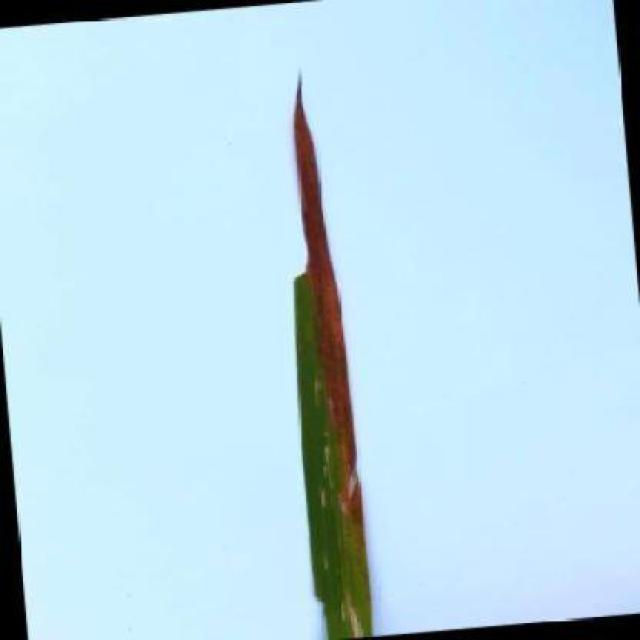Rice False Smut: (252, 52, 388, 640)
